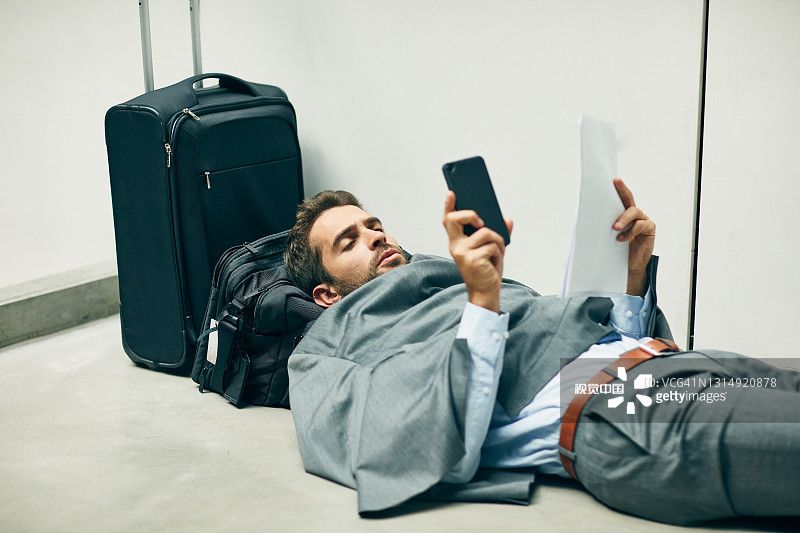no-phone: (588, 164, 678, 296)
reading: (424, 150, 525, 317)
